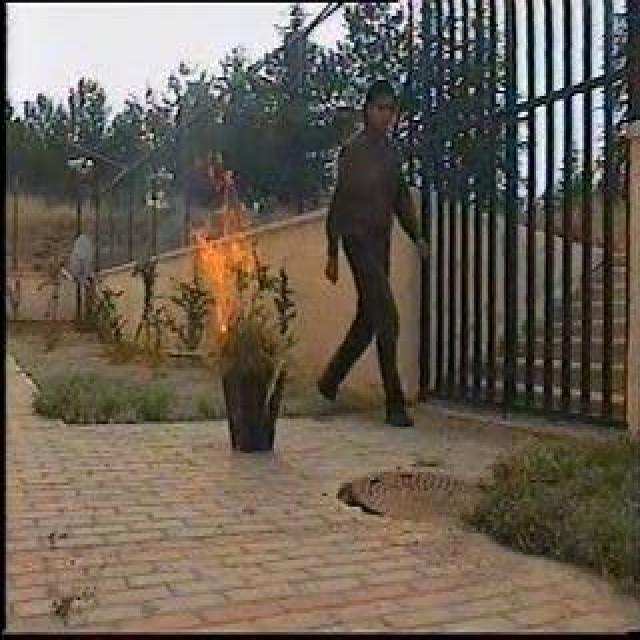fire: (197, 171, 257, 333)
